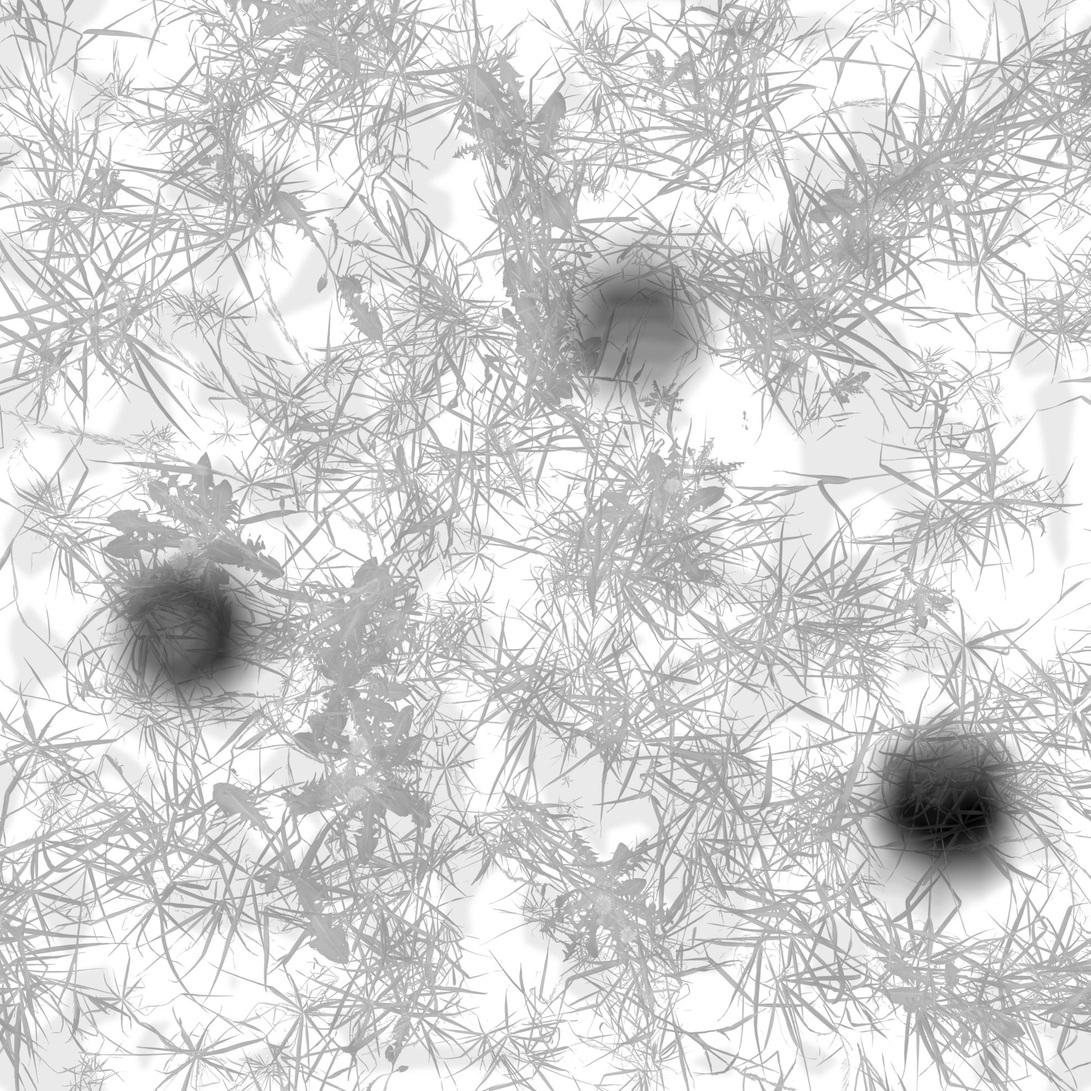landmine: (118, 543, 284, 718), (868, 729, 1031, 885), (563, 261, 699, 394)
